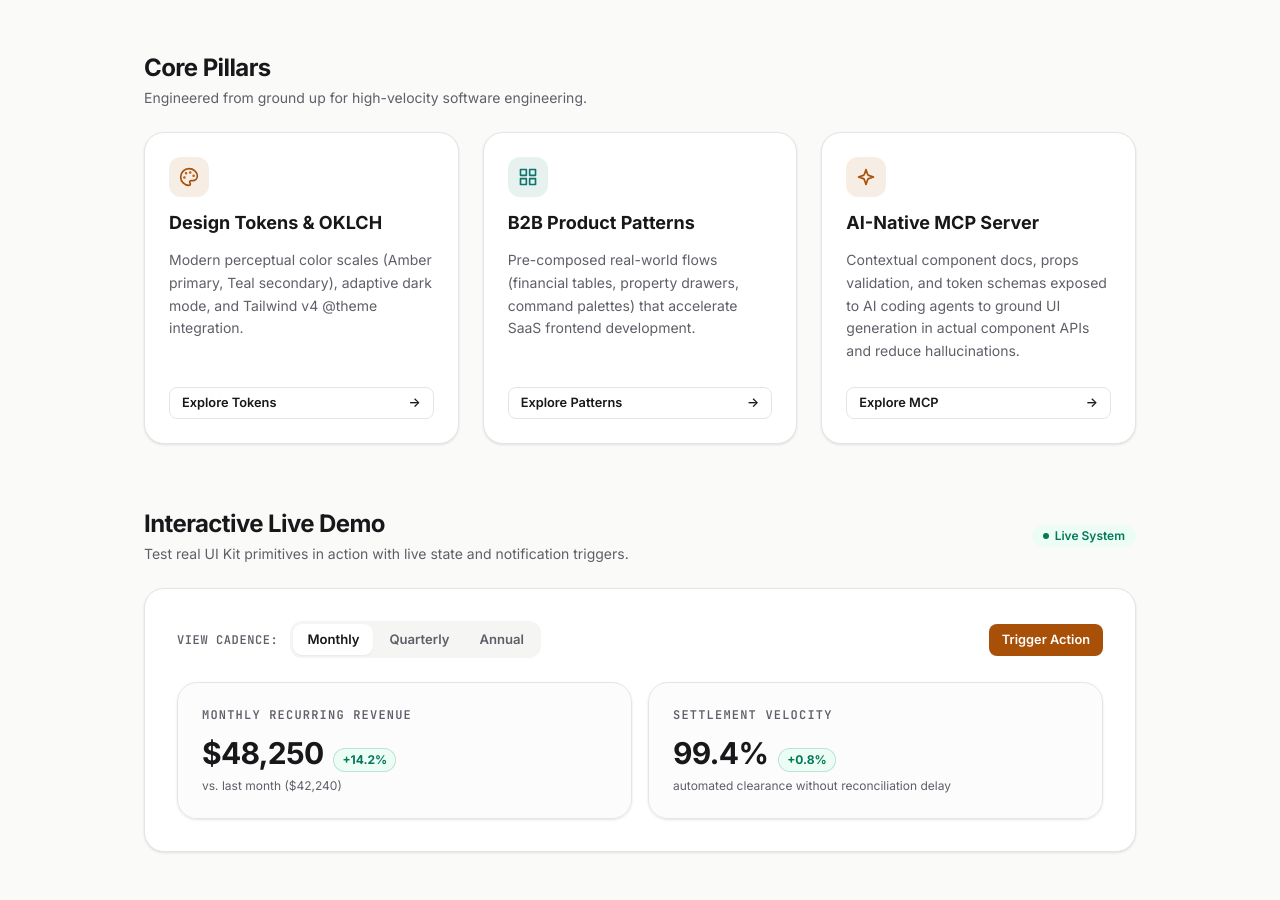
Scenario: OverviewView › renders live interactive demo card with MetricCard, Segmented, Badge, and interactive feedback
The image size is (1280, 900).
(page scrolled)
Expected: the text "Monthly Recurring Revenue" is shown, [202,707,412,723]
Expected: the text "$48,250" is shown, [202,735,323,771]
# Click quarterly tab
Click the tab "Quarterly". click: [419, 640]
box: [375,624,463,656]
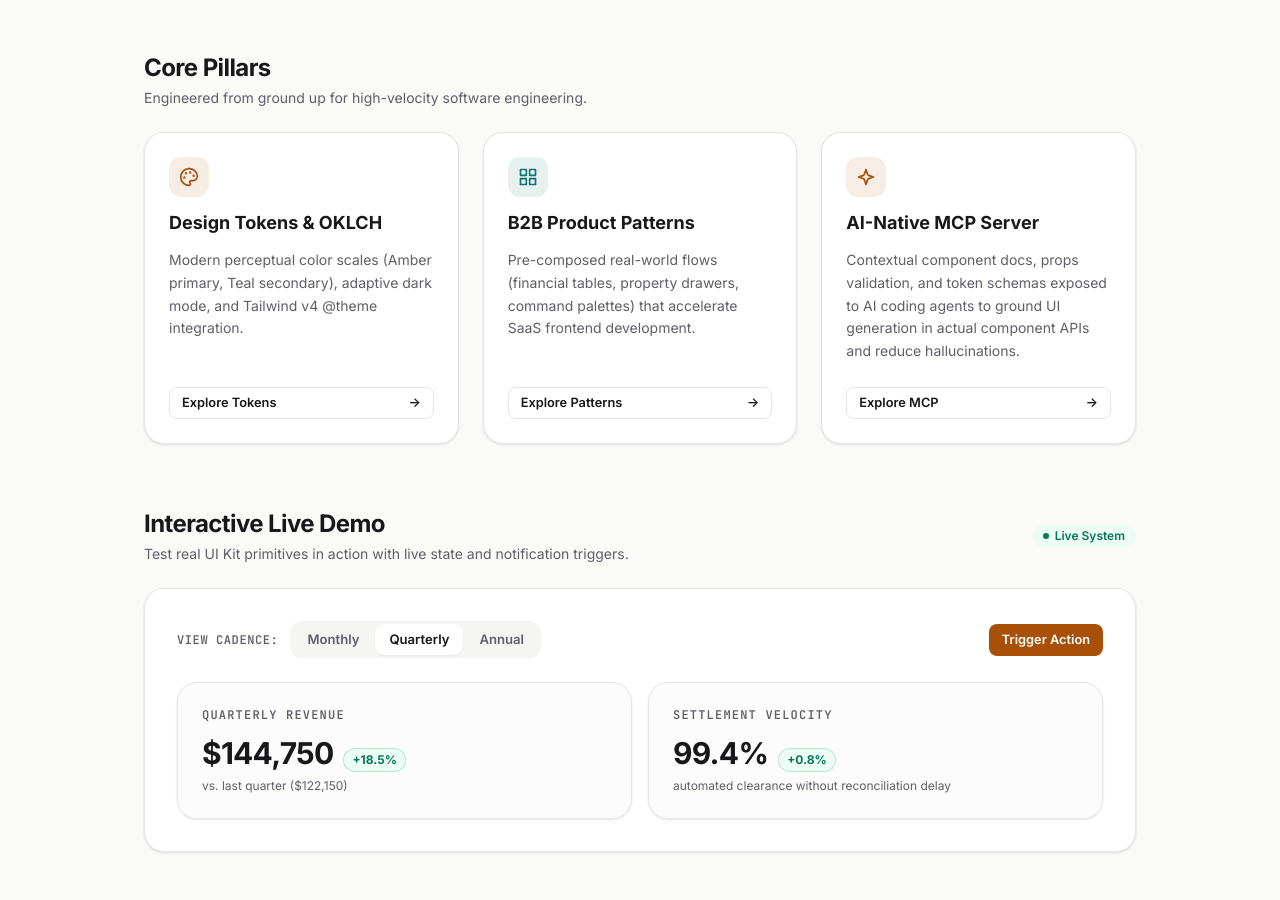
Result: the text "$144,750" is shown at [202,735,334,771]
# Click interactive action button to trigger feedback
Click the button named "Trigger Action" in the row of "View Cadence:". click: [1046, 640]
box: [989,624,1103,656]
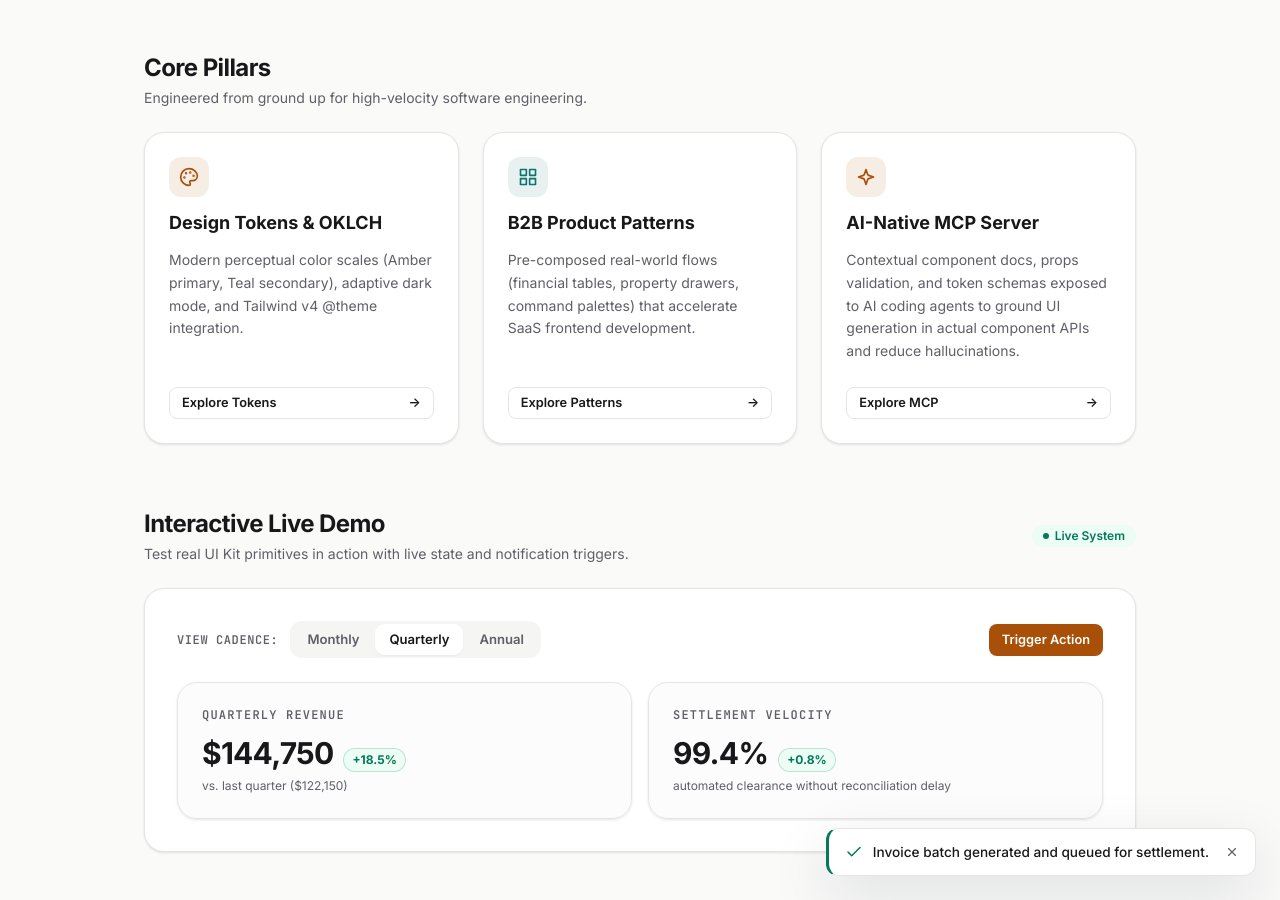
Result: the message "Invoice batch generated and queued for settlement." is shown at [826,828,1256,876]
